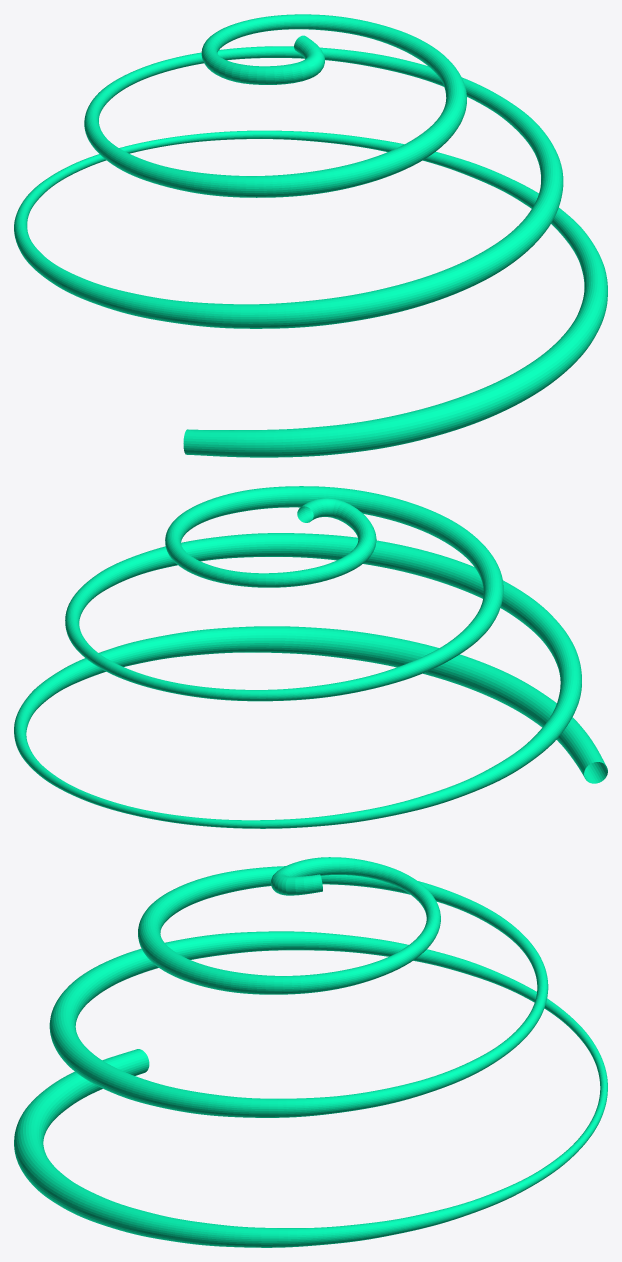
The model's file is example03.glb.
3 views of the same model, one above another, from view 1: azimuth 30°, elevation 25°; view 2: azimuth 150°, elevation 25°; view 3: azimuth 270°, elevation 25° (orthographic). The views are drawn at different scales.
Visible parts, largest first — view 1: line_00000; view 2: line_00000; view 3: line_00000.
Boxes of the visible parts, box(x1,y1,x2,y2) form: line_00000: box(14, 14, 607, 457); line_00000: box(14, 486, 607, 828); line_00000: box(14, 857, 607, 1247).
Size of the model in its own units: 4.41 by 2.49 by 4.52.
